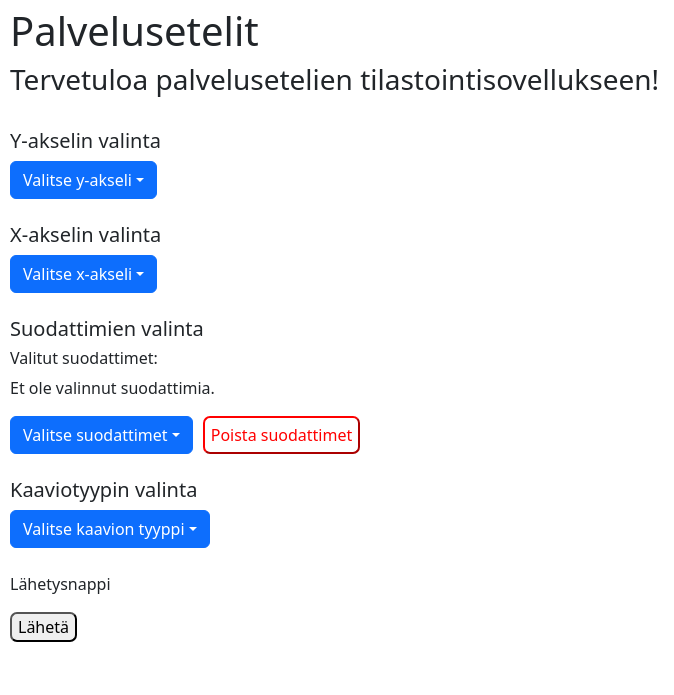
Test: App › tests handleSubmit when !type
What coordinates should you click on to do the following:
click the button "Valitse y-akseli"
I would click on:
 (84, 180)
Its box is [10,161,157,199].
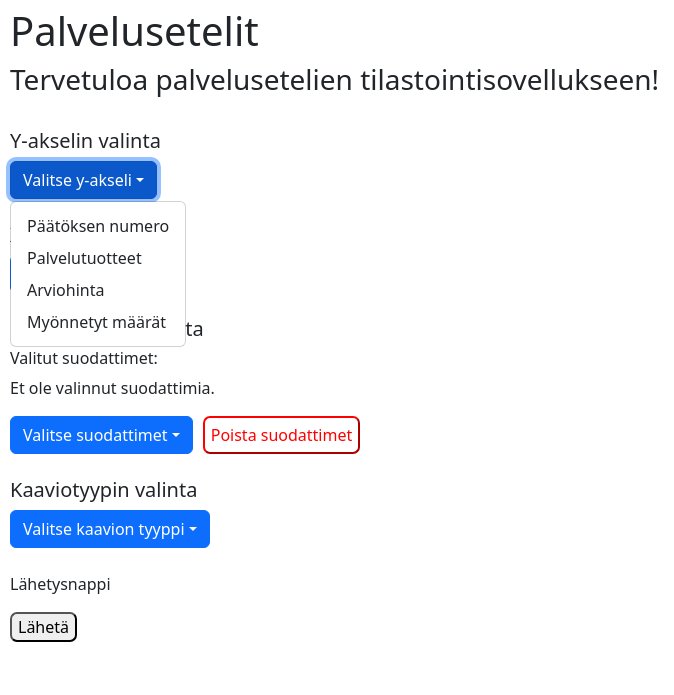
What coordinates should you click on to do the following:
click the button "Päätöksen numero"
I would click on:
 (98, 226)
Its box is [27,215,169,237].
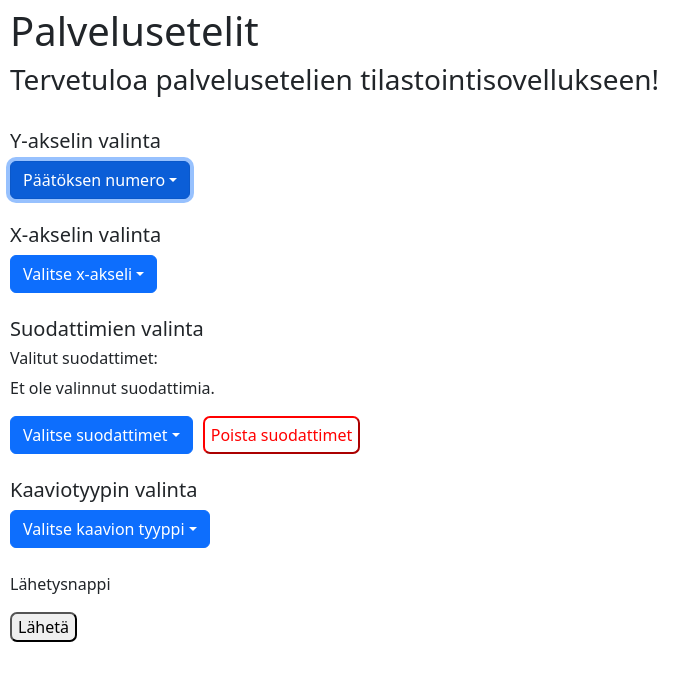
What coordinates should you click on to do the following:
click the button "Valitse x-akseli"
I would click on:
 (84, 274)
Its box is [10,255,157,293].
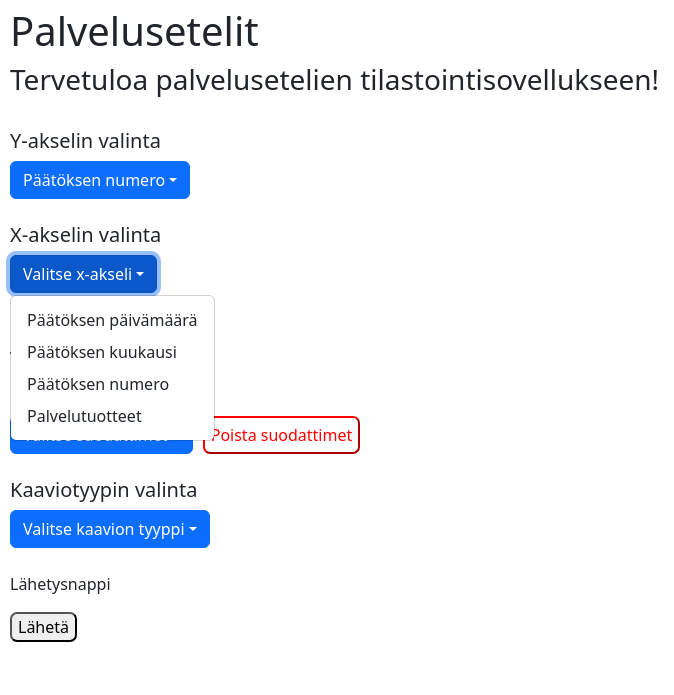
What coordinates should you click on to do the following:
click the button "Päätöksen kuukausi"
I would click on:
 (102, 352)
Its box is [27,341,177,363].
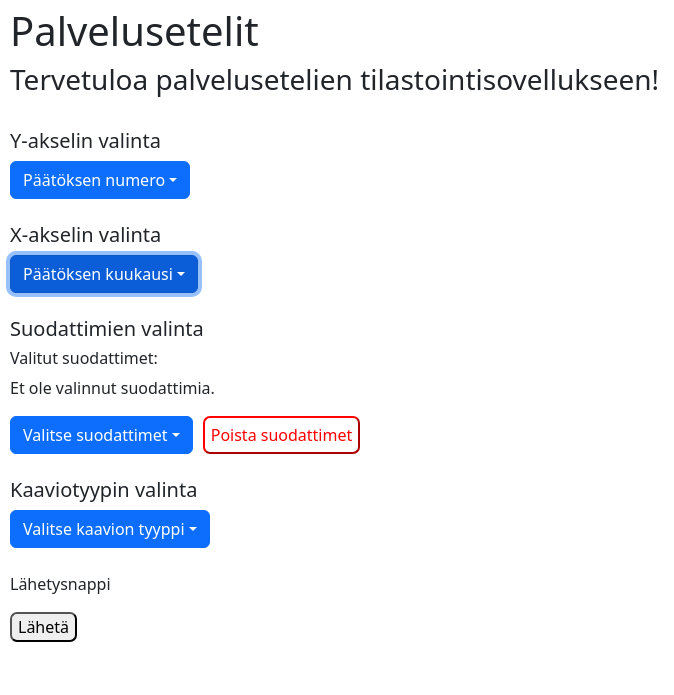
What coordinates should you click on to do the following:
click the button "Lähetä"
I would click on:
 (44, 627)
Its box is [10,612,77,642].
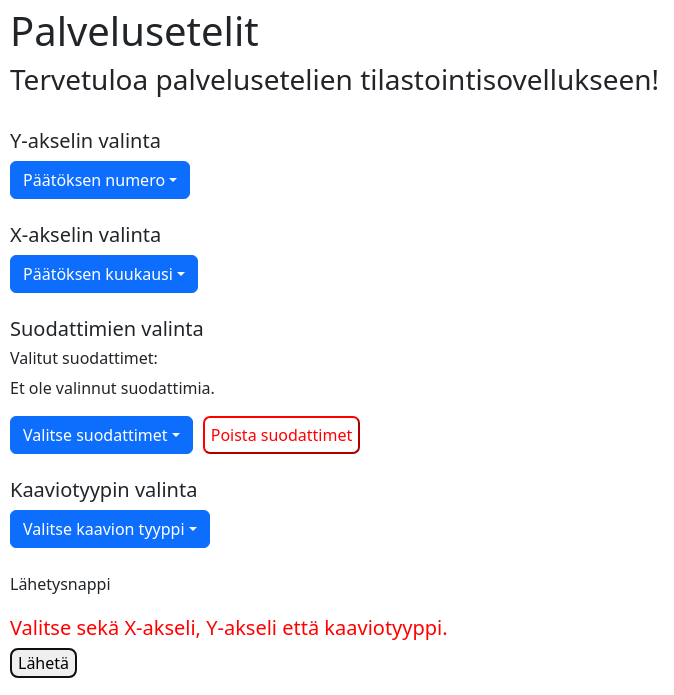
Expected: the heading "Valitse sekä X-akseli, Y-akseli että kaaviotyyppi." is shown, [10,614,448,641]
